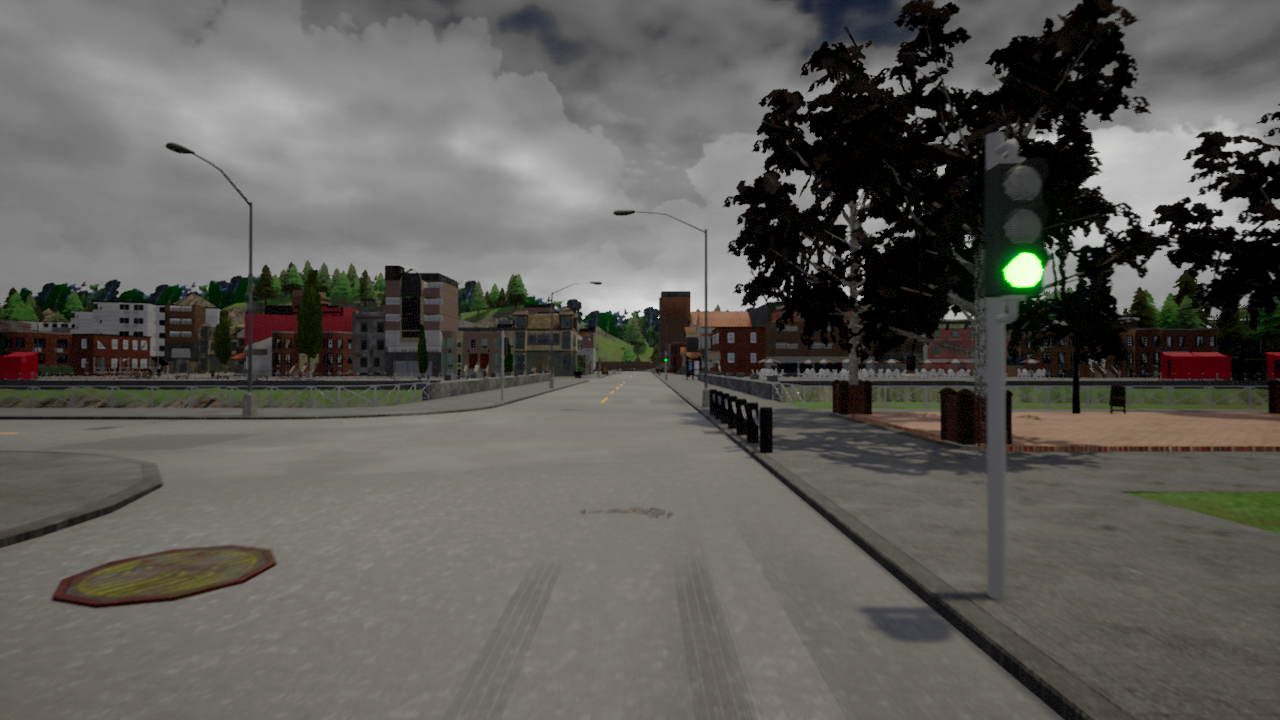green: (989, 159, 1051, 302)
